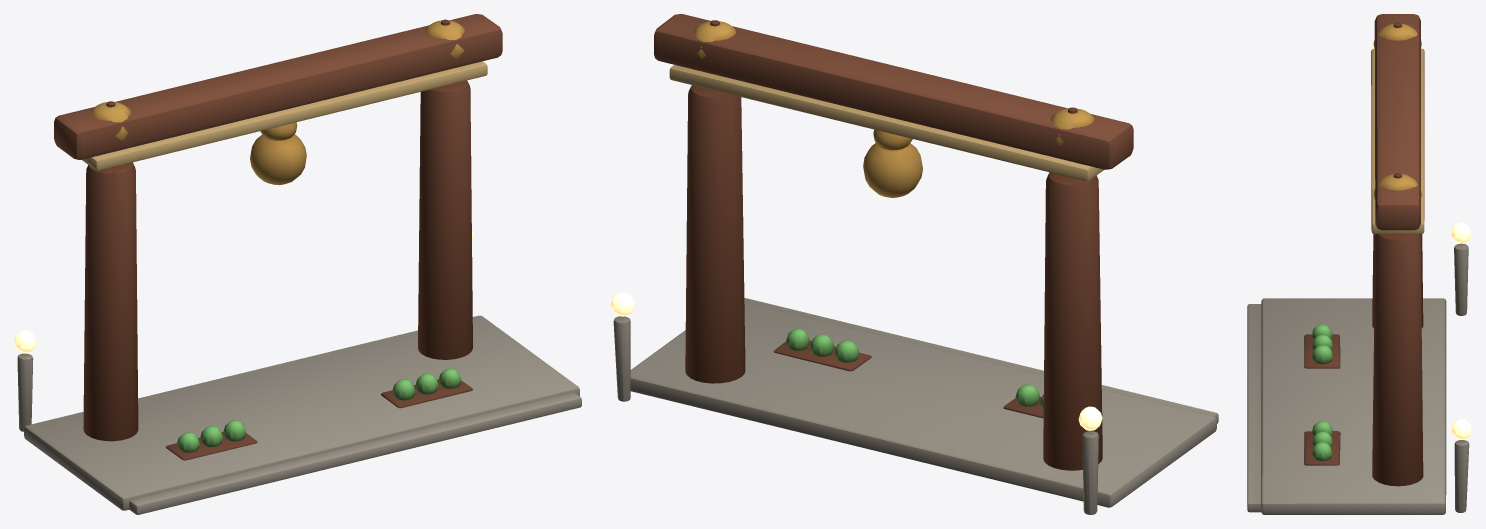
3 renders of one model, left to right at view 1: azimuth 30°, elevation 25°; view 2: azimuth 150°, elevation 25°; view 3: azimuth 270°, elevation 25°, orthographic. The views are drawn at different scales.
Visible parts, largest first — view 1: gate_6b4763ca; view 2: gate_6b4763ca; view 3: gate_6b4763ca.
Part boxes in pixels (left/top/right/bottom): gate_6b4763ca: left=14, top=14, right=581, bottom=514; gate_6b4763ca: left=610, top=14, right=1218, bottom=514; gate_6b4763ca: left=1247, top=14, right=1471, bottom=514.
Size of the model in its own units: 5.54 by 3.94 by 2.55.
